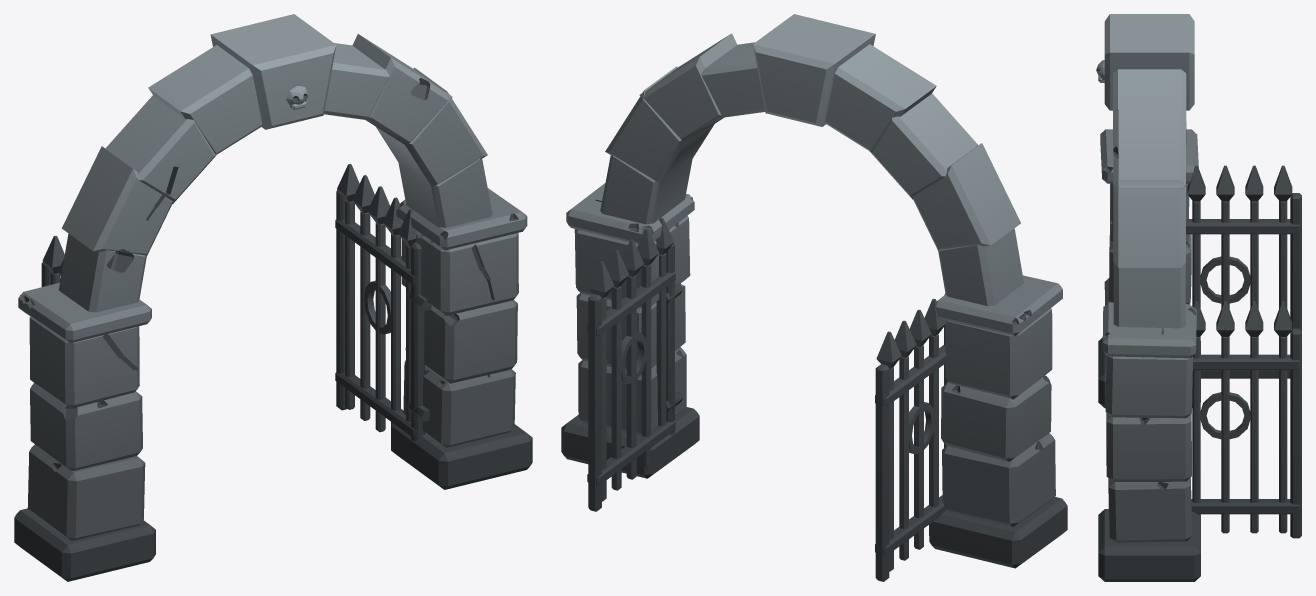
The model's file is graveyard_gate.glb.
The picture shows the model from 3 angles, left to right: view 1: azimuth 30°, elevation 25°; view 2: azimuth 150°, elevation 25°; view 3: azimuth 270°, elevation 25°; orthographic projection. The views are drawn at different scales.
Visible parts, largest first — view 1: graveyard_gate; view 2: graveyard_gate; view 3: graveyard_gate.
Boxes of the visible parts, bbox=[...] form: graveyard_gate: bbox=[14, 14, 532, 581]; graveyard_gate: bbox=[561, 14, 1067, 581]; graveyard_gate: bbox=[1096, 14, 1301, 581].
Bounding box in the file's own units: 4 × 3.81 × 1.6.
1 material, 1 textured.
